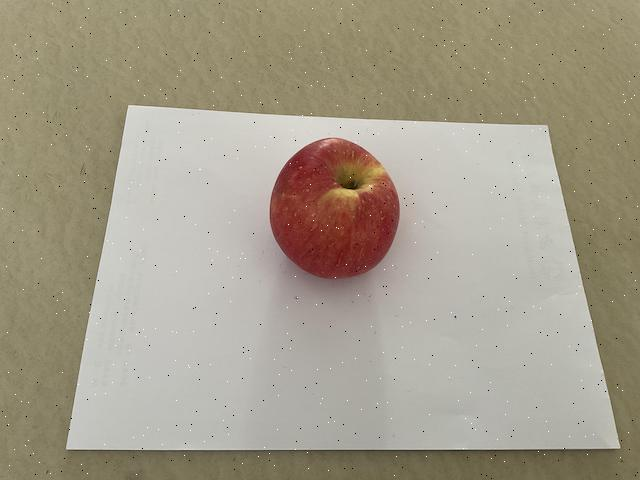apple: (266, 134, 403, 284)
